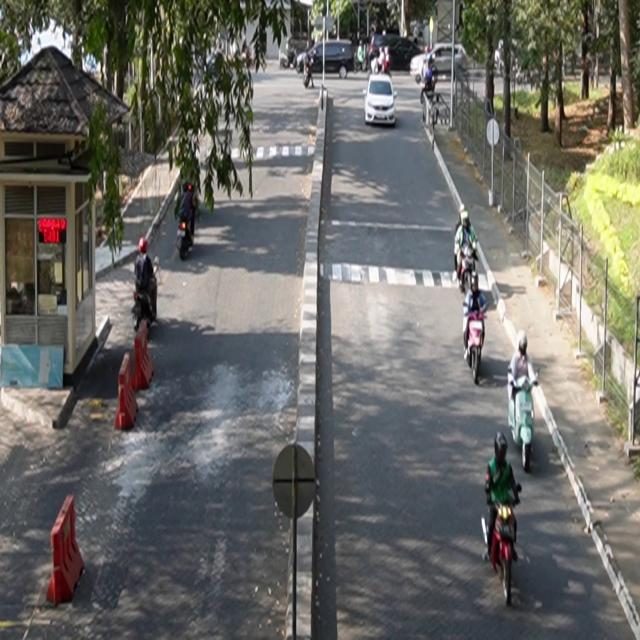car: (364, 74, 398, 127)
